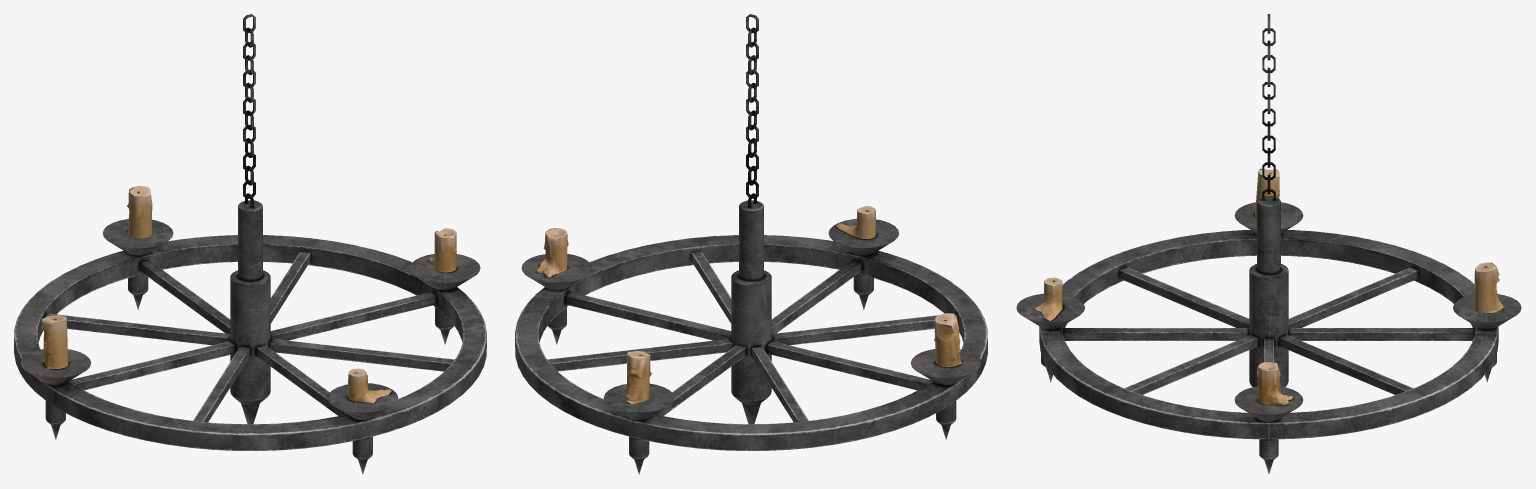
Rendered from SM_Chandelier.fbx.
3 renders of one model, left to right at view 1: azimuth 30°, elevation 25°; view 2: azimuth 150°, elevation 25°; view 3: azimuth 270°, elevation 25°, orthographic. The views are drawn at different scales.
Visible parts, largest first — view 1: SM_Chandelier_LOD0; view 2: SM_Chandelier_LOD0; view 3: SM_Chandelier_LOD0.
Part boxes in pixels (bbox=[...]): SM_Chandelier_LOD0: bbox=[14, 14, 486, 474]; SM_Chandelier_LOD0: bbox=[515, 14, 987, 474]; SM_Chandelier_LOD0: bbox=[1016, 14, 1521, 473].
Bounding box in the file's own units: 110 × 110 × 97.7.
2 materials, 2 textured.
